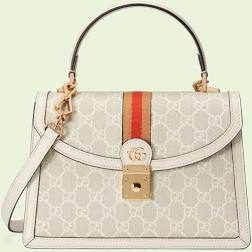Gucci: (33, 74, 245, 252), (116, 86, 159, 201), (170, 171, 238, 234), (122, 142, 149, 169)
